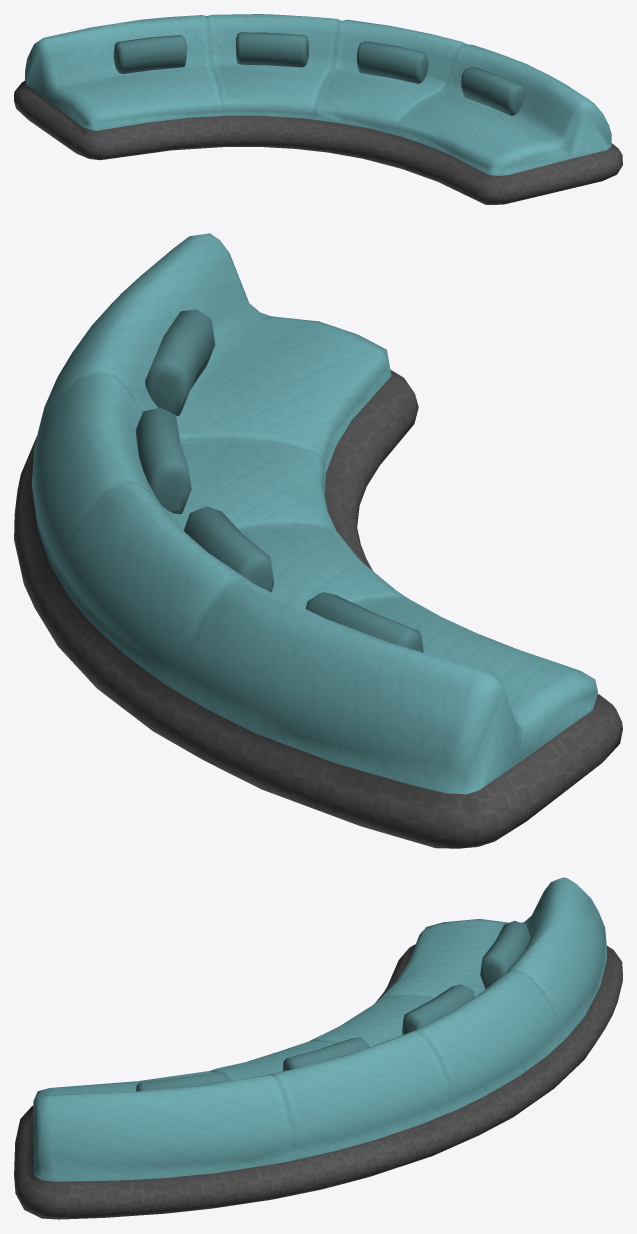
The model's file is PatioSofa.glb.
The picture shows the model from 3 angles, top to bottom: view 1: azimuth 30°, elevation 25°; view 2: azimuth 150°, elevation 25°; view 3: azimuth 270°, elevation 25°; orthographic projection. The views are drawn at different scales.
Parts seen in each view (by area): view 1: exteriorSofa_low, exteriorSofaPillow_low.001, exteriorSofaPillow_low, exteriorSofaPillow_low.002, exteriorSofaPillow_low.003; view 2: exteriorSofa_low, exteriorSofaPillow_low.003, exteriorSofaPillow_low.002, exteriorSofaPillow_low.001, exteriorSofaPillow_low; view 3: exteriorSofa_low, exteriorSofaPillow_low, exteriorSofaPillow_low.001, exteriorSofaPillow_low.002, exteriorSofaPillow_low.003.
Boxes of the visible parts, bbox=[...] form: exteriorSofa_low: bbox=[14, 14, 622, 204]; exteriorSofaPillow_low.001: bbox=[236, 32, 308, 67]; exteriorSofaPillow_low: bbox=[113, 35, 186, 73]; exteriorSofaPillow_low.002: bbox=[357, 41, 428, 83]; exteriorSofaPillow_low.003: bbox=[461, 66, 524, 115]; exteriorSofa_low: bbox=[14, 233, 622, 848]; exteriorSofaPillow_low.003: bbox=[145, 309, 215, 415]; exteriorSofaPillow_low.002: bbox=[135, 407, 191, 514]; exteriorSofaPillow_low.001: bbox=[183, 506, 273, 592]; exteriorSofaPillow_low: bbox=[305, 592, 423, 652]; exteriorSofa_low: bbox=[14, 877, 622, 1219]; exteriorSofaPillow_low: bbox=[480, 920, 530, 989]; exteriorSofaPillow_low.001: bbox=[402, 984, 474, 1034]; exteriorSofaPillow_low.002: bbox=[282, 1037, 368, 1071]; exteriorSofaPillow_low.003: bbox=[136, 1071, 229, 1091].
Size of what is drawn, in the model's own units: 4.95 by 0.9623 by 4.94.
Materials: 1 (1 with a texture image).
